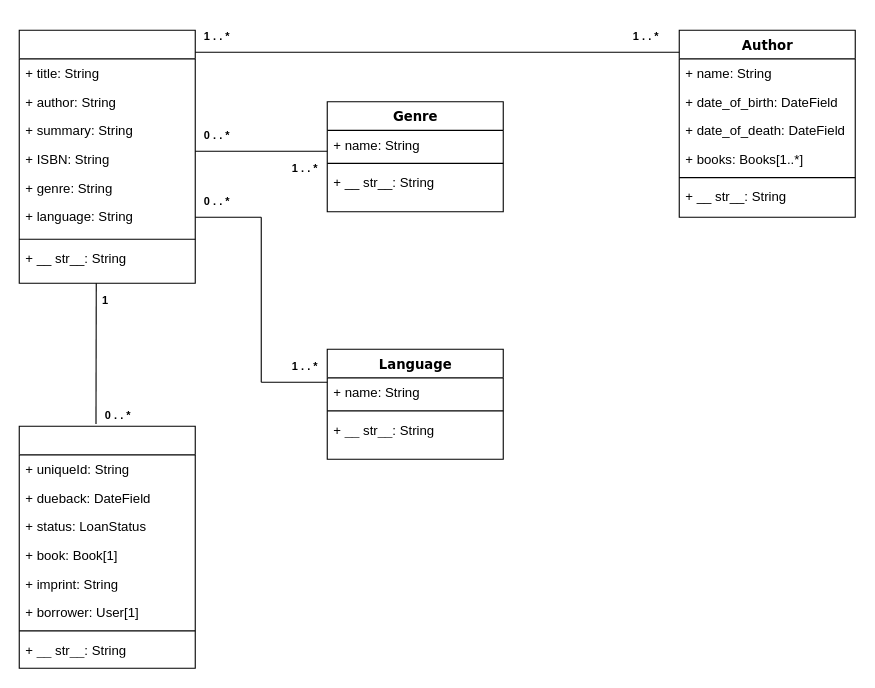
This 875x688 diagram has some shape labels left out. Each missing label, with the box of its shape:
Book: (18, 29, 195, 283)
BookInstance: (18, 425, 195, 668)
